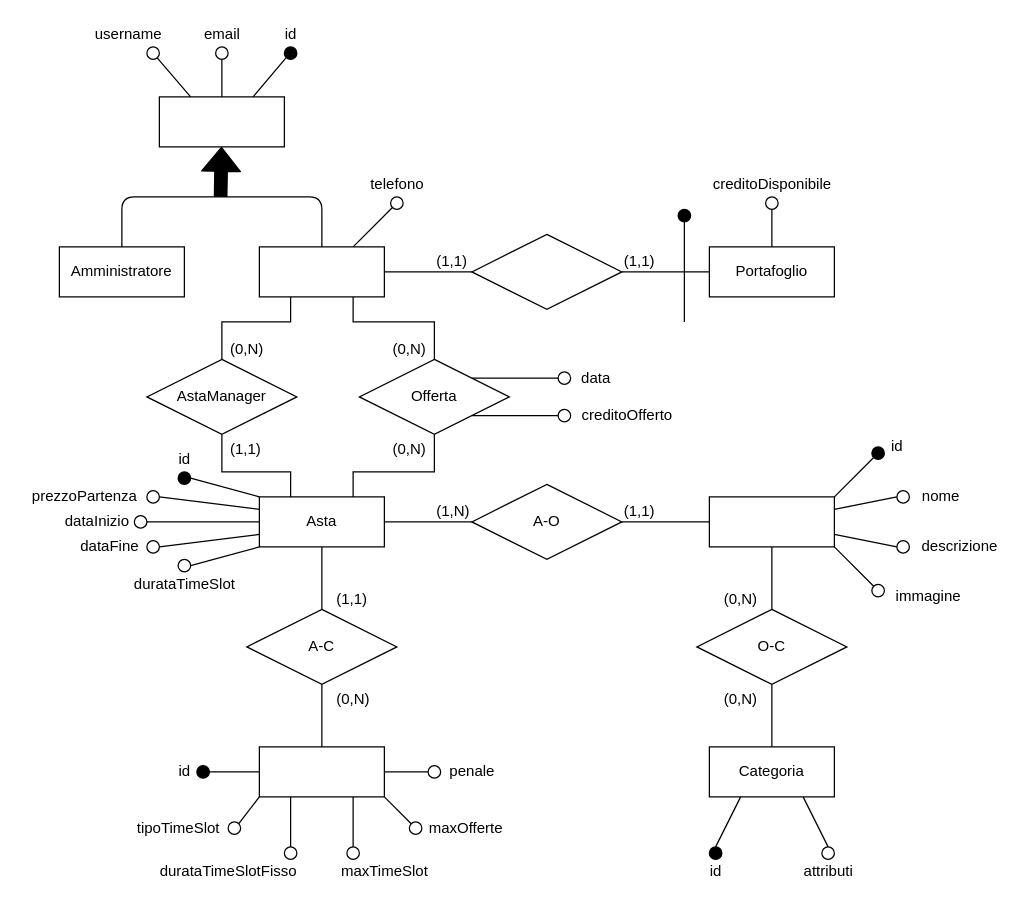
Some shapes in this 1030 by 905 pixel diagram are drawn without their labels. Each missing label, with the centre of its shape:
Configurazione: pixel 321 771
Oggetto: pixel 771 521
U-P: pixel 546 271
Utente: pixel 221 121
UtenteRegistrato: pixel 321 271
